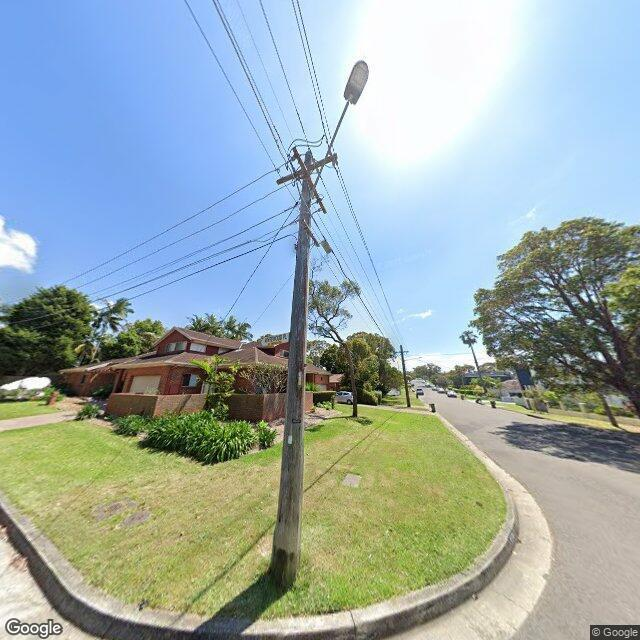crossarm: (292, 145, 327, 214), (275, 153, 338, 185), (394, 350, 410, 353)
streetlight: (306, 59, 370, 203)
timber-pole: (266, 151, 313, 587), (400, 344, 411, 408)
